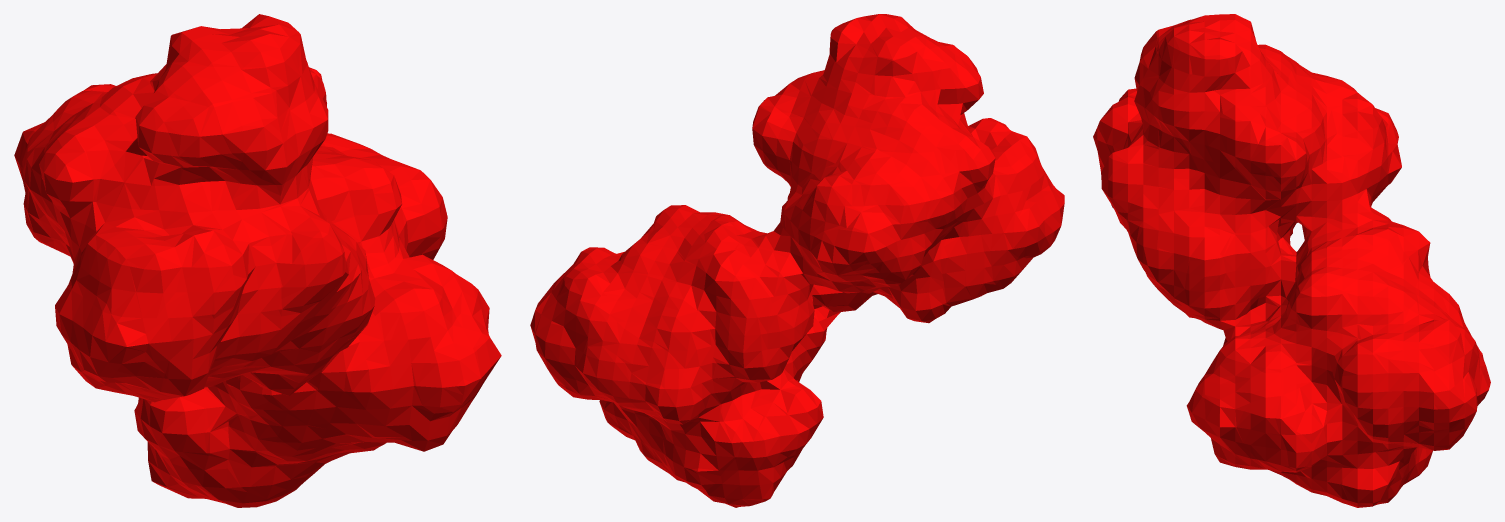
File: ybgC_coarse.dae
3 renders of one model, left to right at view 1: azimuth 30°, elevation 25°; view 2: azimuth 150°, elevation 25°; view 3: azimuth 270°, elevation 25°, orthographic. The views are drawn at different scales.
Visible parts, largest first — view 1: ybgC; view 2: ybgC; view 3: ybgC.
Boxes of the visible parts, x1,y1,x2,y2 form: ybgC: (14, 14, 501, 507); ybgC: (530, 14, 1064, 507); ybgC: (1093, 14, 1490, 507).
Bounding box in the file's own units: 98.84 × 107 × 89.08.
